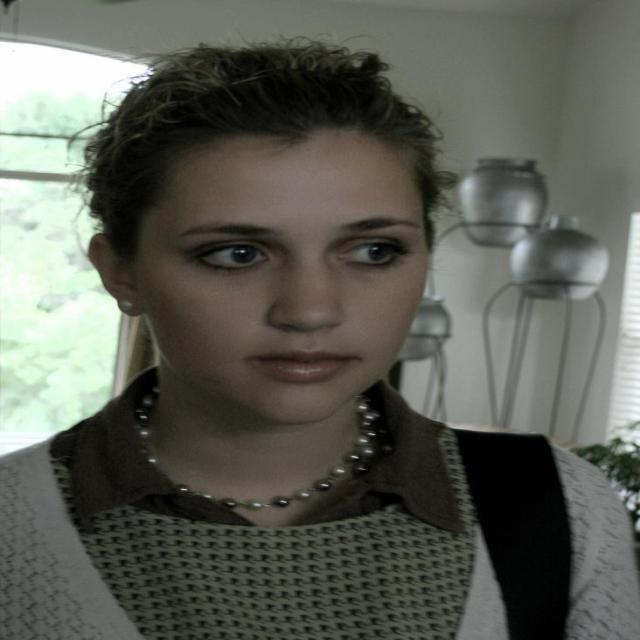no-glass: (194, 232, 401, 274)
